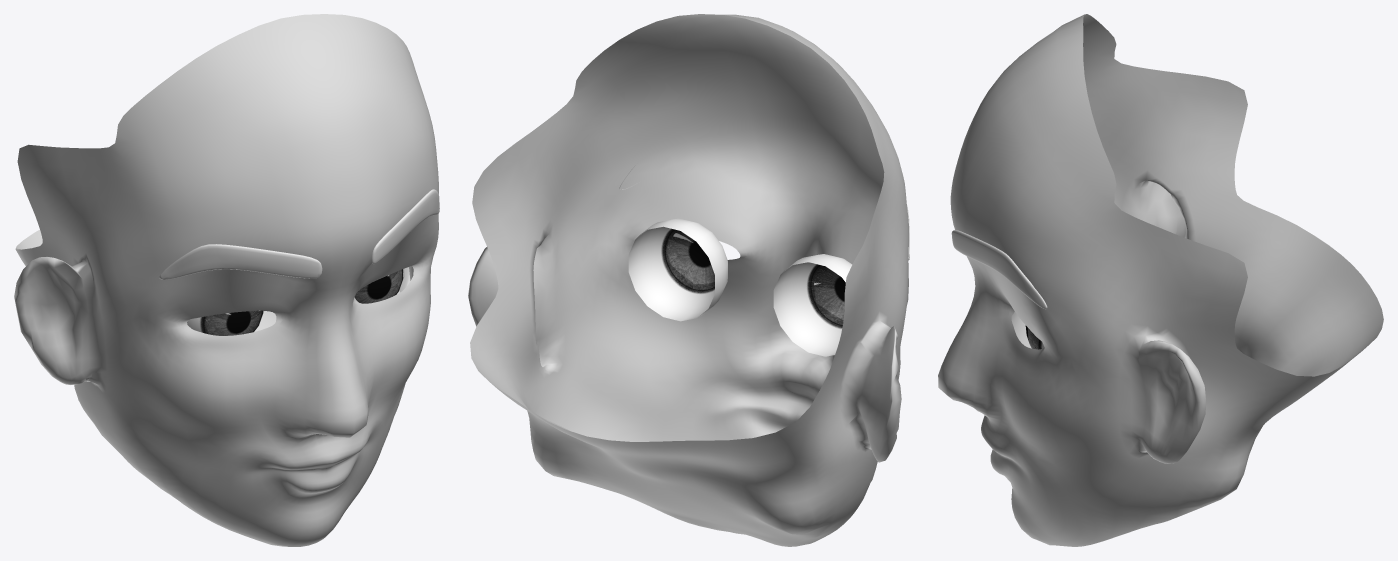
File: male_head_blink.fbx
3 renders of one model, left to right at view 1: azimuth 30°, elevation 25°; view 2: azimuth 150°, elevation 25°; view 3: azimuth 270°, elevation 25°, orthographic. The views are drawn at different scales.
Visible parts, largest first — view 1: male_face_ur, eyeball_right_ur, eyeball_left_ur; view 2: male_face_ur, eyeball_left_ur, eyeball_right_ur; view 3: male_face_ur.
Boxes of the visible parts, box(x1,y1,x2,y2) form: male_face_ur: box(14, 14, 439, 546); eyeball_right_ur: box(187, 310, 263, 335); eyeball_left_ur: box(354, 269, 404, 303); male_face_ur: box(468, 14, 909, 546); eyeball_left_ur: box(628, 218, 727, 321); eyeball_right_ur: box(773, 254, 852, 356); male_face_ur: box(938, 14, 1383, 546).
Bounding box in the file's own units: 68.97 × 80.97 × 65.07.
